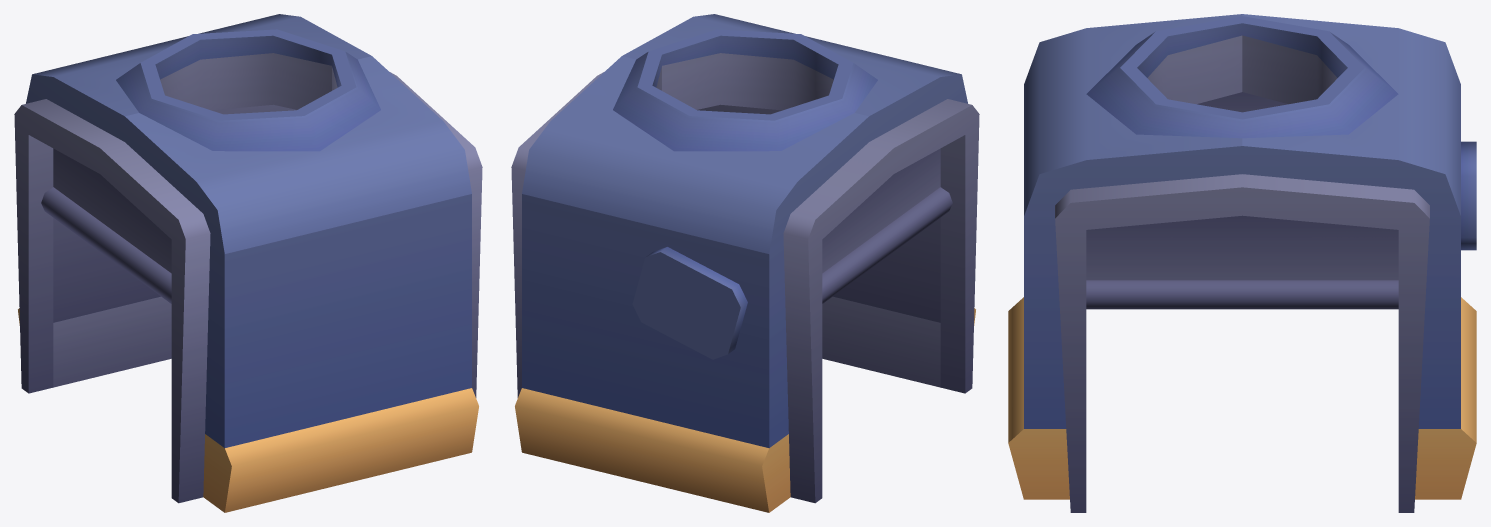
Rendered from kenney-factory-machine-connection-hole.glb.
3 renders of one model, left to right at view 1: azimuth 30°, elevation 25°; view 2: azimuth 150°, elevation 25°; view 3: azimuth 270°, elevation 25°, orthographic. The views are drawn at different scales.
Parts seen in each view (by area): view 1: machine-connection-hole; view 2: machine-connection-hole; view 3: machine-connection-hole.
Boxes of the visible parts, x1=… form: machine-connection-hole: x1=14, y1=14, x2=482, y2=512; machine-connection-hole: x1=511, y1=14, x2=979, y2=512; machine-connection-hole: x1=1008, y1=14, x2=1476, y2=512.
Size of the model in its own units: 1.2 by 1.29 by 1.5.
Materials: 1 (1 with a texture image).
